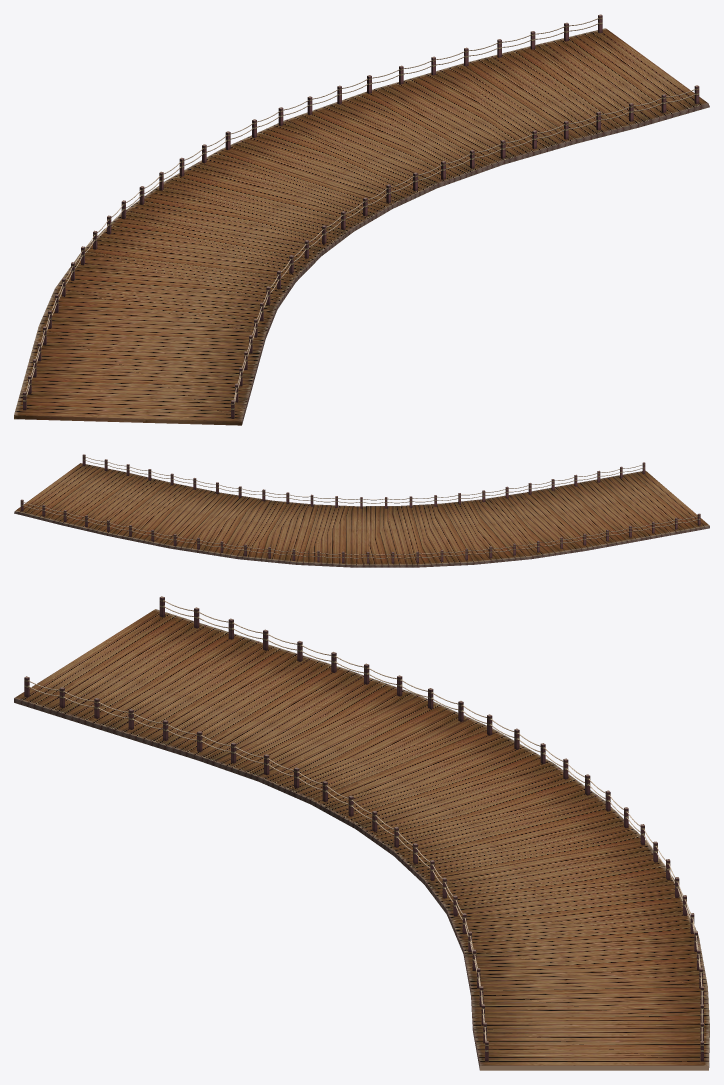
File: matou.FBX
3 views of the same model, one above another, from view 1: azimuth 30°, elevation 25°; view 2: azimuth 150°, elevation 25°; view 3: azimuth 270°, elevation 25° (orthographic). The views are drawn at different scales.
Parts seen in each view (by area): view 1: matou; view 2: matou; view 3: matou.
Part boxes in pixels (x1,y1,x2,y2): matou: [14, 14, 709, 425]; matou: [14, 454, 709, 567]; matou: [14, 596, 709, 1070].
Bounding box in the file's own units: 4558 × 110 × 2932.
2 materials, 2 textured.
